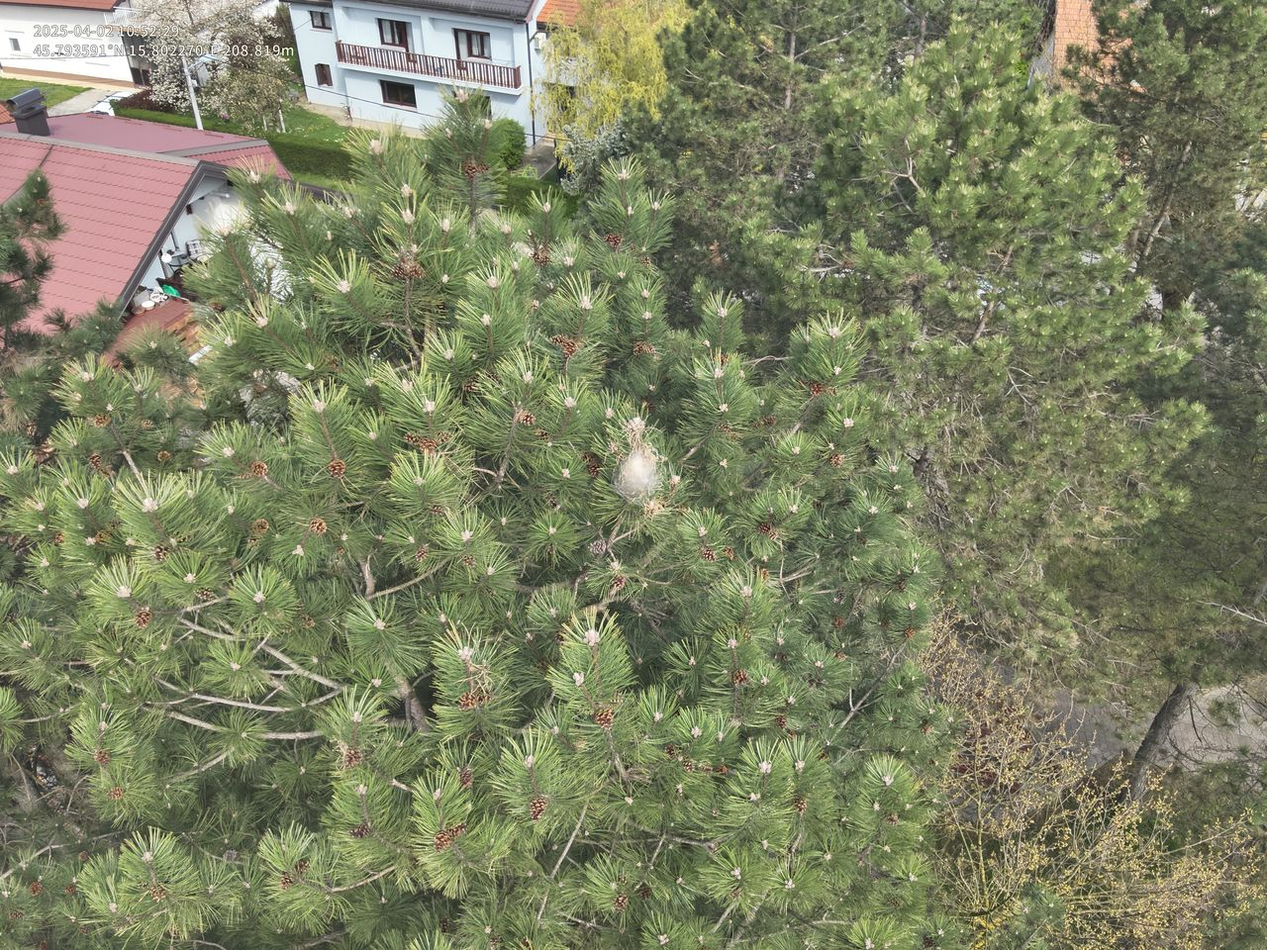thaumatopoea pityocampa jajno gnijezdo: (613, 429, 666, 502)
